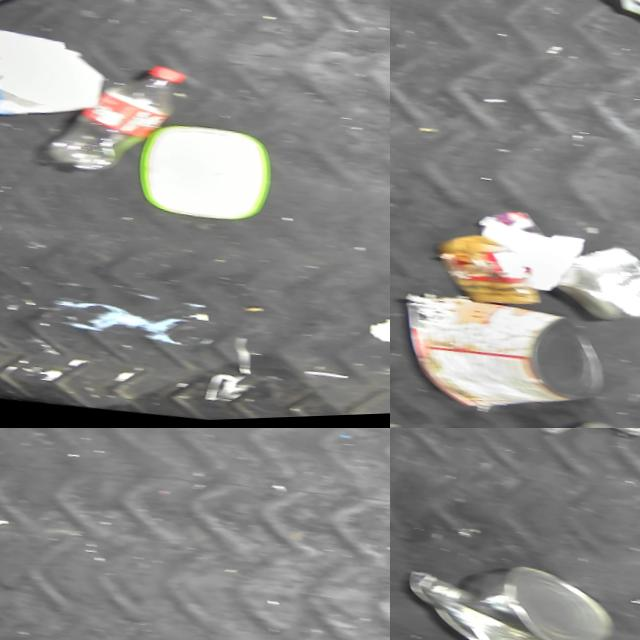can: (390, 280, 616, 428), (390, 546, 619, 640), (536, 237, 640, 336)
plastic_bottle: (27, 50, 191, 187), (447, 403, 632, 428)
